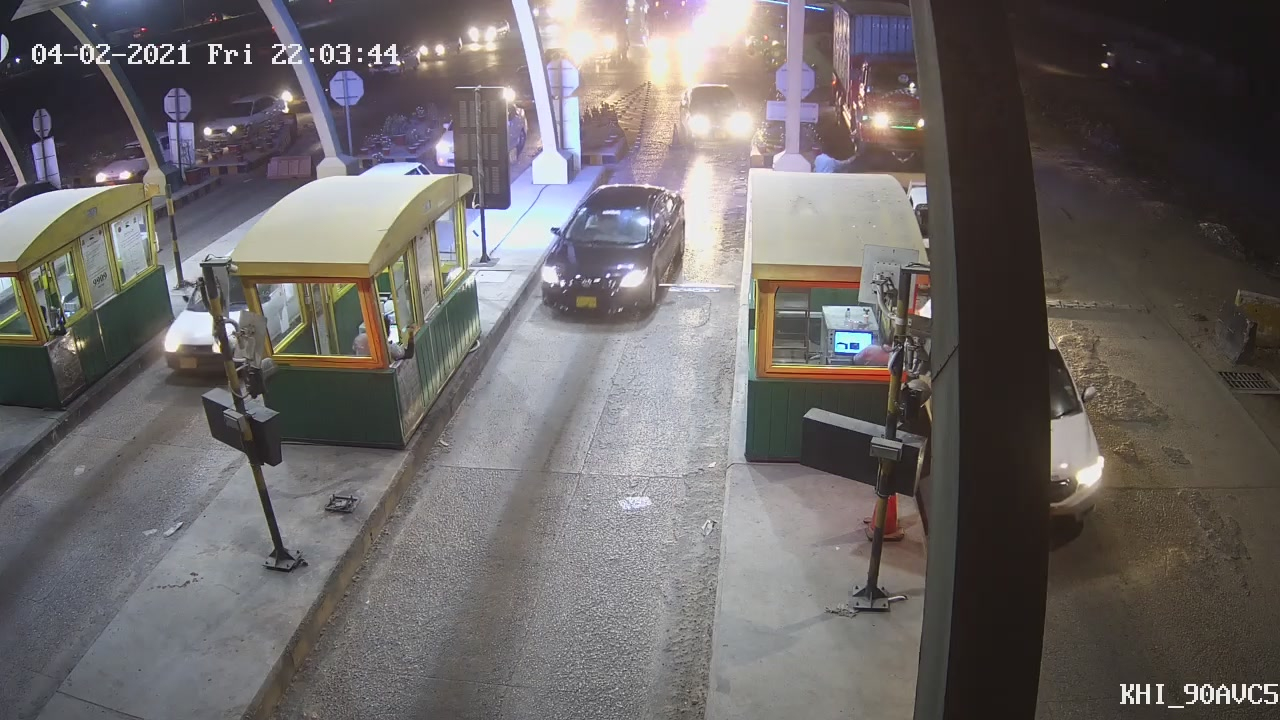F1: (533, 180, 692, 324)
